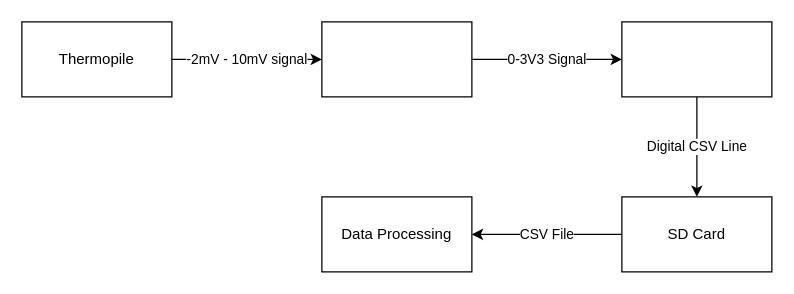
The diagram is 794 pixels wide and 294 high, and some of its shapes have lost their labels. Each missing label, with the box of its shape:
ADC: (621, 21, 772, 97)
Operational Amplifier: (321, 21, 472, 97)
